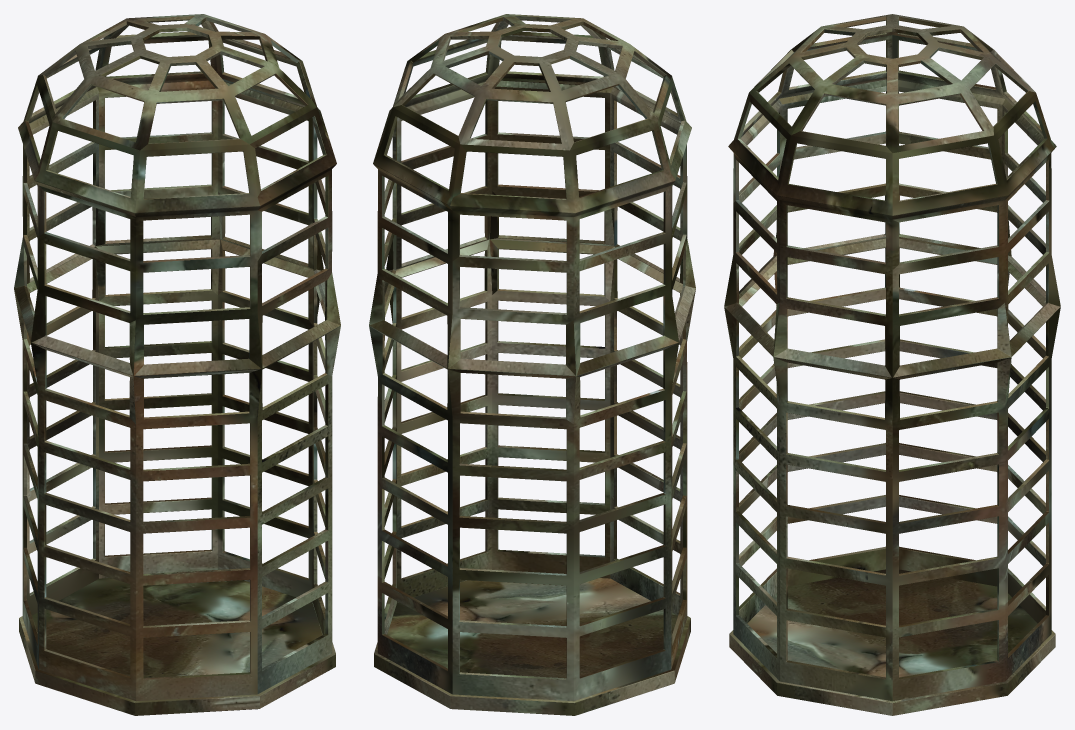
The model's file is rustcage.obj.
The picture shows the model from 3 angles, left to right: view 1: azimuth 30°, elevation 25°; view 2: azimuth 150°, elevation 25°; view 3: azimuth 270°, elevation 25°; orthographic projection.
Parts seen in each view (by area): view 1: TotallyRustyCage; view 2: TotallyRustyCage; view 3: TotallyRustyCage.
Part boxes in pixels (<box>): TotallyRustyCage: <box>14,14,340,715</box>; TotallyRustyCage: <box>369,14,695,715</box>; TotallyRustyCage: <box>724,14,1060,715</box>.
Size of the model in its own units: 1.01 by 2 by 1.01.
